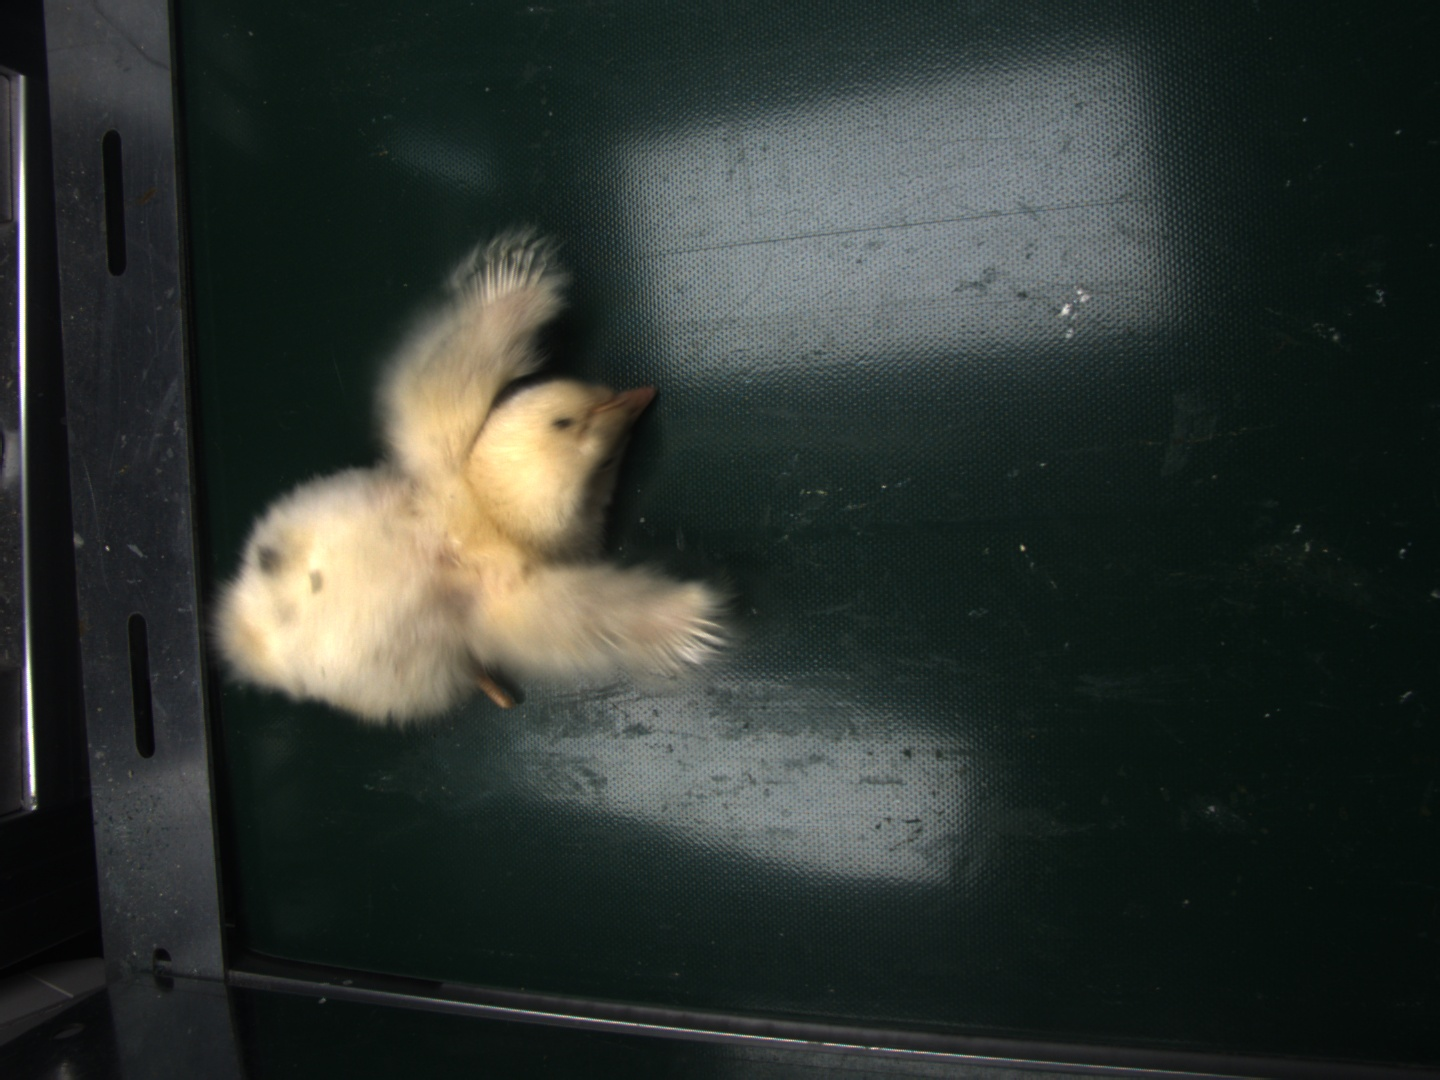male: (471, 252, 543, 306)
